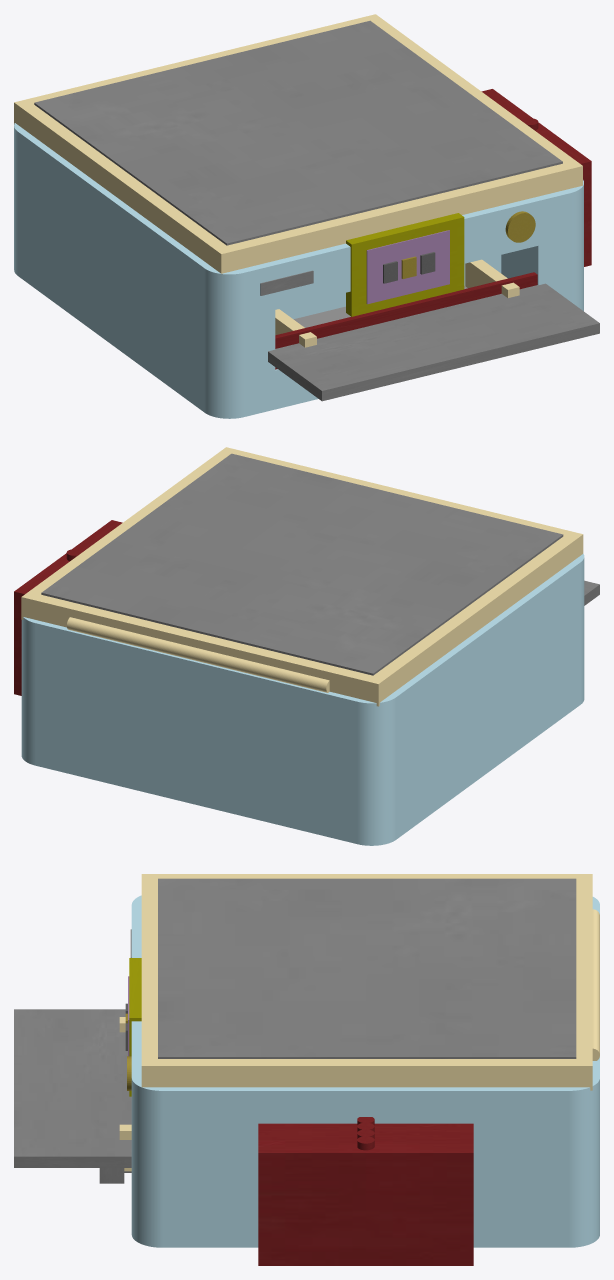
The model's file is Technology_Printer__0196.glb.
3 views of the same model, one above another, from view 1: azimuth 30°, elevation 25°; view 2: azimuth 150°, elevation 25°; view 3: azimuth 270°, elevation 25° (orthographic). The views are drawn at different scales.
Parts seen in each view (by area): view 1: scanner_lid::cover_top, body::body_shell, scanner_lid::lid_frame, body::output_shelf, body::control_panel, body::touchscreen_glass, body::output_shadow, body::tank_housing, input_tray::tray_side_r, body::badge_roundel, body::brand_plate, input_tray::tray_side_l (+1 smaller); view 2: body::body_shell, scanner_lid::cover_top, scanner_lid::lid_frame, scanner_lid::hinge_barrel, body::tank_housing; view 3: scanner_lid::cover_top, body::body_shell, body::tank_housing, scanner_lid::lid_frame, body::output_shelf, scanner_lid::hinge_barrel, body::control_panel.
Part boxes in pixels (x1=…): scanner_lid::cover_top: x1=34, y1=20, x2=562, y2=245; body::body_shell: x1=14, y1=123, x2=583, y2=418; scanner_lid::lid_frame: x1=14, y1=14, x2=582, y2=273; body::output_shelf: x1=268, y1=283, x2=599, y2=401; body::control_panel: x1=346, y1=213, x2=464, y2=316; body::touchscreen_glass: x1=366, y1=230, x2=449, y2=304; body::output_shadow: x1=275, y1=272, x2=537, y2=369; body::tank_housing: x1=481, y1=89, x2=591, y2=266; input_tray::tray_side_r: x1=465, y1=259, x2=519, y2=297; body::badge_roundel: x1=505, y1=211, x2=535, y2=242; body::brand_plate: x1=260, y1=270, x2=313, y2=295; input_tray::tray_side_l: x1=275, y1=309, x2=316, y2=347; body::body_shell: x1=21, y1=553, x2=584, y2=845; scanner_lid::cover_top: x1=41, y1=453, x2=563, y2=675; scanner_lid::lid_frame: x1=21, y1=447, x2=583, y2=706; scanner_lid::hinge_barrel: x1=67, y1=617, x2=329, y2=692; body::tank_housing: x1=14, y1=520, x2=122, y2=695; scanner_lid::cover_top: x1=158, y1=878, x2=576, y2=1058; body::body_shell: x1=131, y1=895, x2=599, y2=1247; body::tank_housing: x1=258, y1=1123, x2=473, y2=1265; scanner_lid::lid_frame: x1=141, y1=874, x2=592, y2=1090; body::output_shelf: x1=14, y1=1009, x2=131, y2=1167; scanner_lid::hinge_barrel: x1=592, y1=909, x2=599, y2=1060; body::control_panel: x1=129, y1=958, x2=141, y2=1096.
Size of the model in its own units: 0.4361 by 0.1606 by 0.4726.
Materials: 14 (9 with a texture image).
